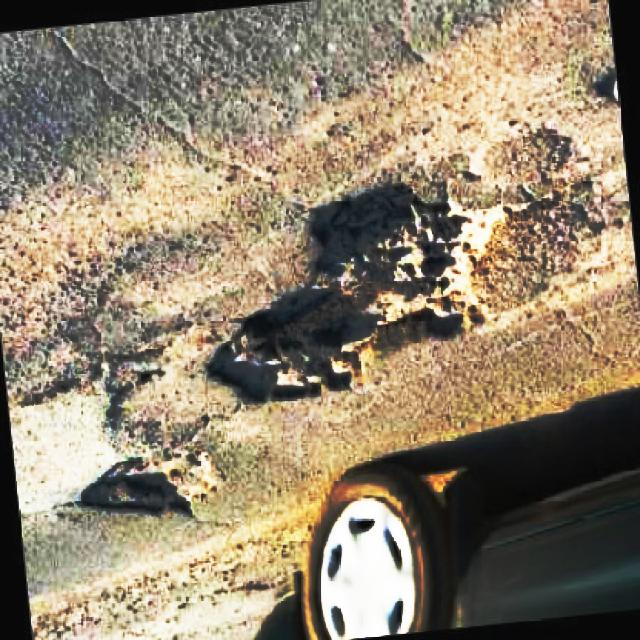pothole: (188, 182, 520, 403), (74, 438, 221, 516)
